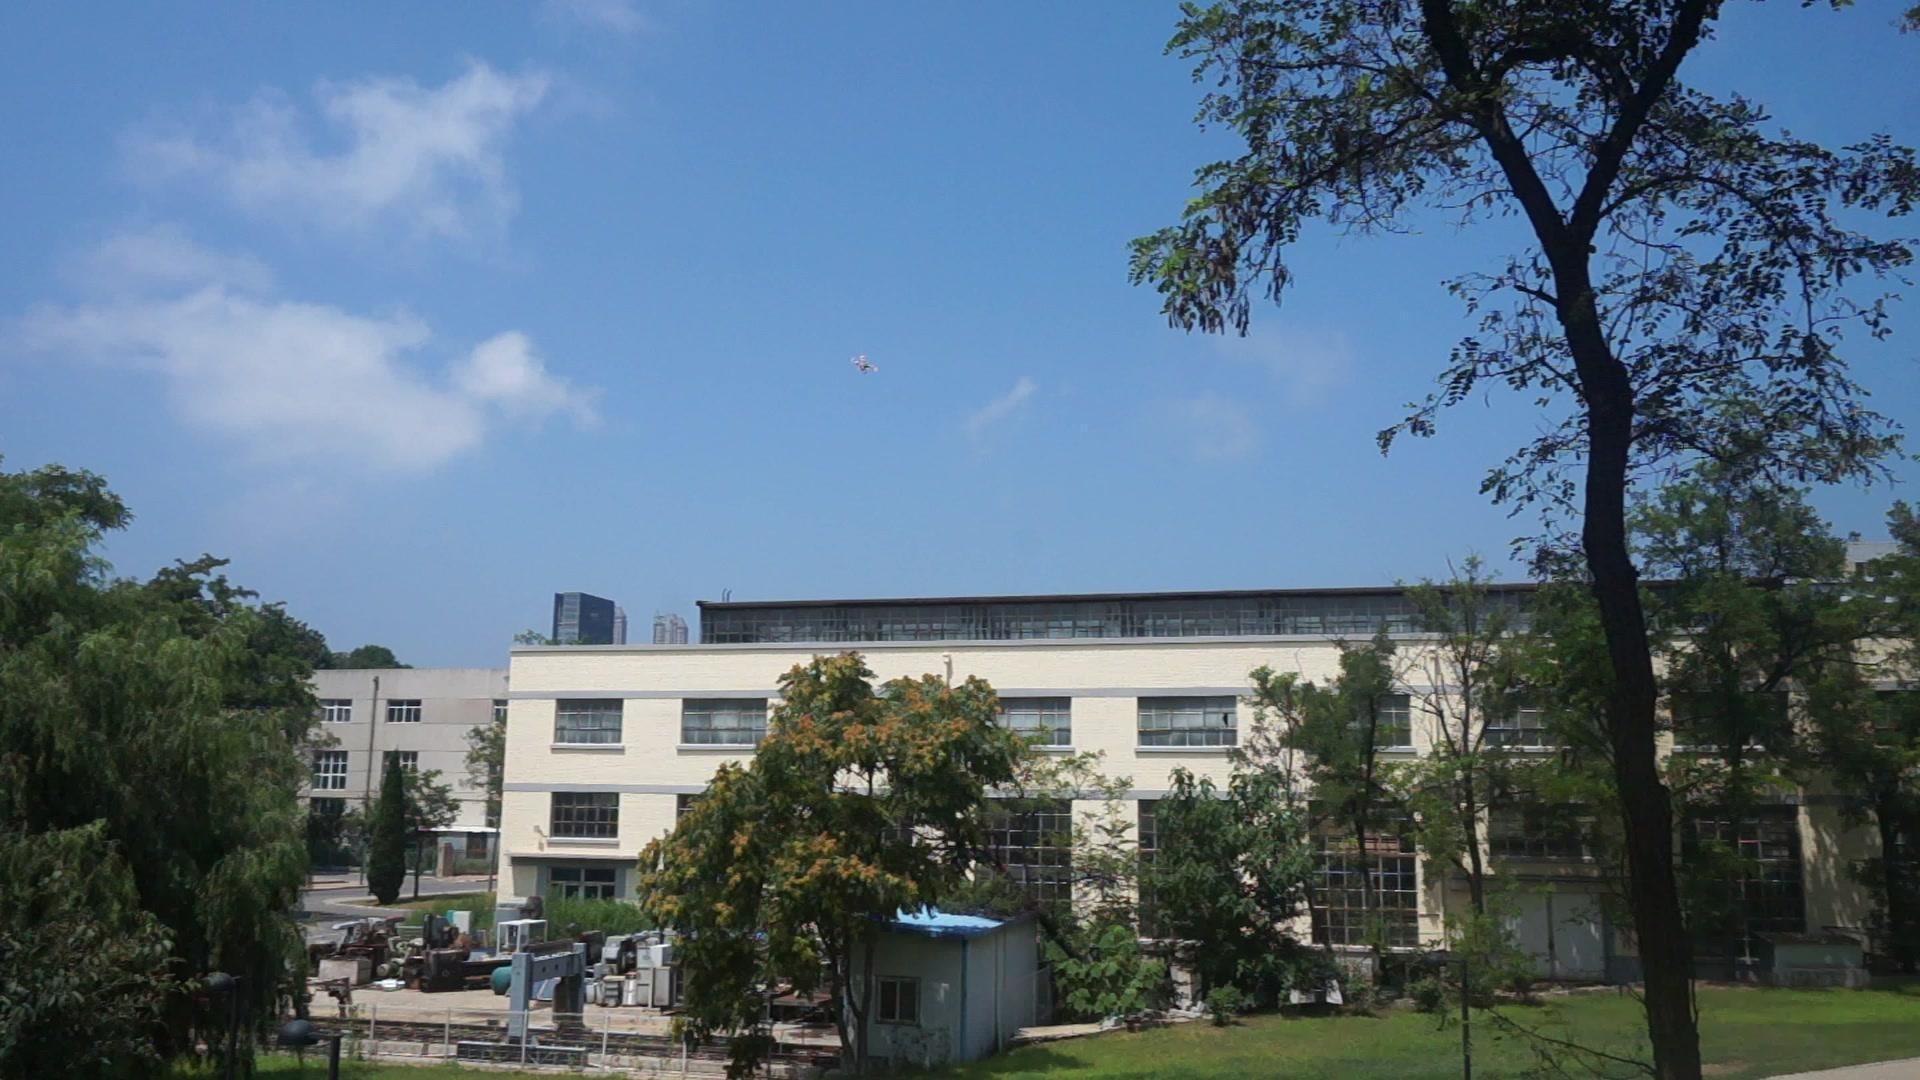UAV: (851, 356, 880, 376)
